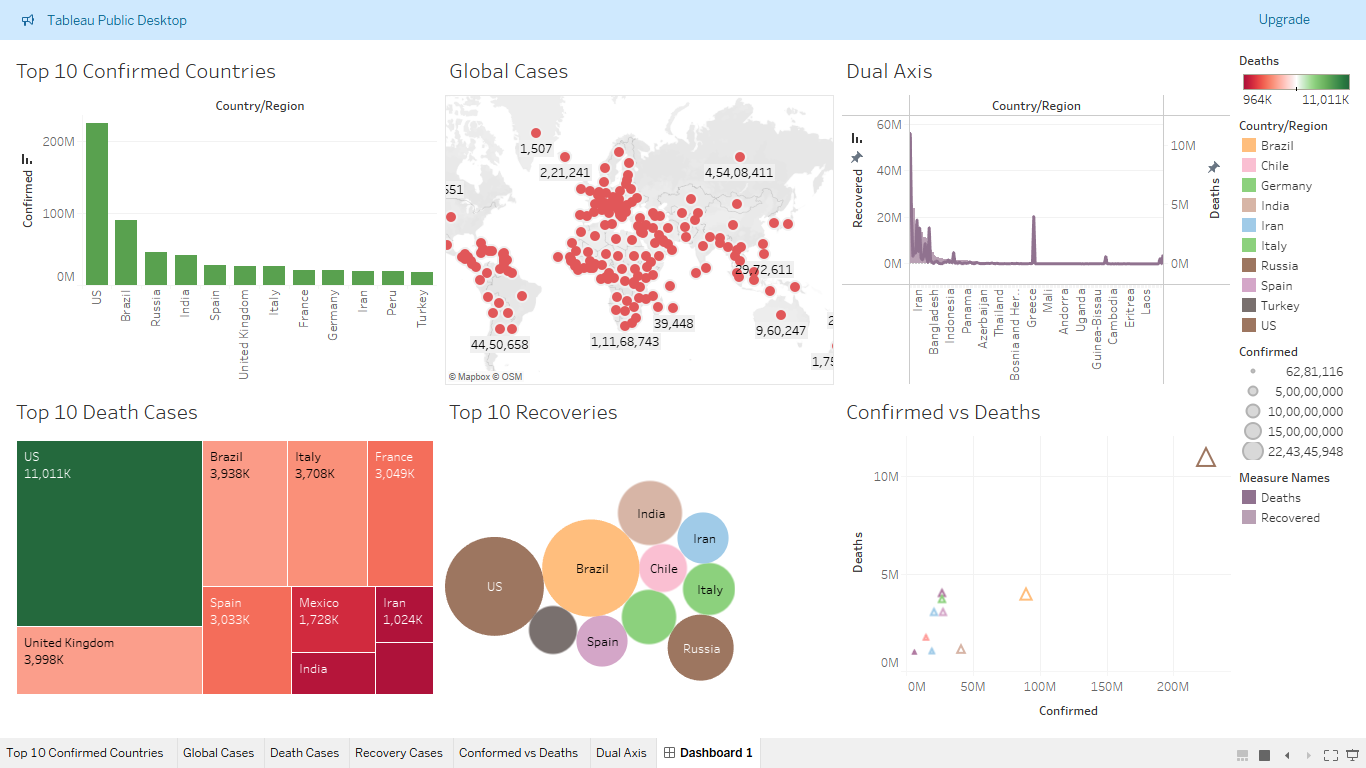

Layout of this report page (visuals, bound fields, positions):
{"tool":"tableau","page":{"name":"Dashboard 1","canvas":[1000,1000],"units":"permille","ordinal":0},"visuals":[{"type":"worksheet","title":"Top 10 Confirmed Countries","mark":"Automatic","rows":["Confirmed"],"cols":["Country/Region"],"box":[6.9,14.7,310.2,485.3]},{"type":"worksheet","title":"Global Cases","mark":"Automatic","box":[317.2,14.7,284.7,485.3]},{"type":"worksheet","title":"Dual Axis","mark":"Line","rows":["Recovered","Deaths"],"cols":["Country/Region"],"box":[601.8,14.7,284.7,485.3]},{"type":"legend","title":"Death Cases","param":"[federated.0pcj3jt1fa39i11g3w47l1oww9vn].[sum:Deaths:qk]","box":[886.6,14.7,106.5,119.5]},{"type":"legend","title":"Recovery Cases","param":"[federated.0pcj3jt1fa39i11g3w47l1oww9vn].[none:Country/Region:nk]","box":[886.6,134.2,106.5,415.4]},{"type":"worksheet","title":"Death Cases","mark":"Automatic","box":[6.9,500,310.2,485.3]},{"type":"worksheet","title":"Recovery Cases","mark":"Circle","box":[317.2,500,285.1,485.3]},{"type":"worksheet","title":"Conformed vs Deaths","mark":"Automatic","rows":["Deaths"],"cols":["Confirmed"],"box":[602.3,500,284.3,485.3]},{"type":"legend","title":"Conformed vs Deaths","param":"[federated.0pcj3jt1fa39i11g3w47l1oww9vn].[sum:Confirmed:qk]","box":[886.6,549.6,106.5,231.6]},{"type":"legend","title":"Dual Axis","param":"[federated.0pcj3jt1fa39i11g3w47l1oww9vn].[:Measure Names]","box":[886.6,781.3,106.5,121.3]}]}

Visuals, with their boxes on the dashboard's canvas, which has no fixed pixel size, in thousandths of its width and height (x1, y1, x2, y2). These are canvas units, not pixel positions in the 1366x768 screenshot, which may show the page scaled, cropped or inside an application window:
"Top 10 Confirmed Countries" worksheet: (left=7, top=15, right=317, bottom=500)
"Global Cases" worksheet: (left=317, top=15, right=602, bottom=500)
"Dual Axis" worksheet (Line marks): (left=602, top=15, right=886, bottom=500)
"Death Cases" legend: (left=887, top=15, right=993, bottom=134)
"Recovery Cases" legend: (left=887, top=134, right=993, bottom=550)
"Death Cases" worksheet: (left=7, top=500, right=317, bottom=985)
"Recovery Cases" worksheet (Circle marks): (left=317, top=500, right=602, bottom=985)
"Conformed vs Deaths" worksheet: (left=602, top=500, right=887, bottom=985)
"Conformed vs Deaths" legend: (left=887, top=550, right=993, bottom=781)
"Dual Axis" legend: (left=887, top=781, right=993, bottom=903)
